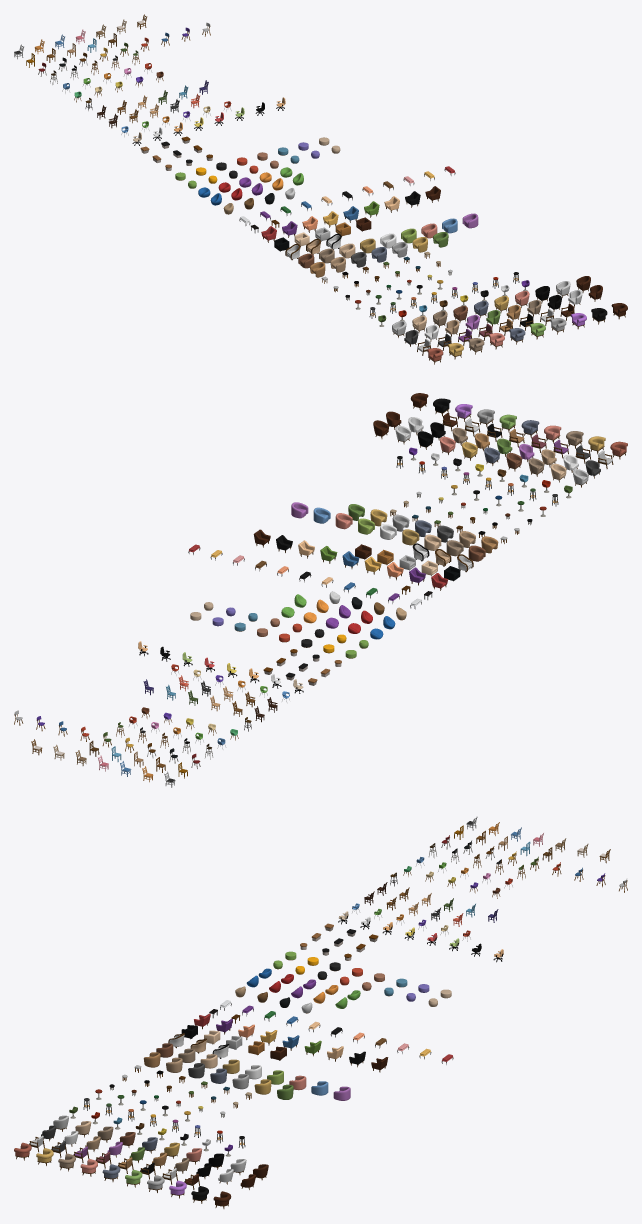
File: demo.fbx
3 views of the same model, one above another, from view 1: azimuth 30°, elevation 25°; view 2: azimuth 150°, elevation 25°; view 3: azimuth 330°, elevation 25° (orthographic). The views are drawn at different scales.
Parts seen in each view (by area): view 1: demo; view 2: demo; view 3: demo.
Part boxes in pixels (<box>): demo: <box>14,14,627,364</box>; demo: <box>14,393,627,787</box>; demo: <box>14,816,627,1208</box>.
Size of the model in its own units: 2087 by 123 by 7122.
Materials: 3 (3 with a texture image).
